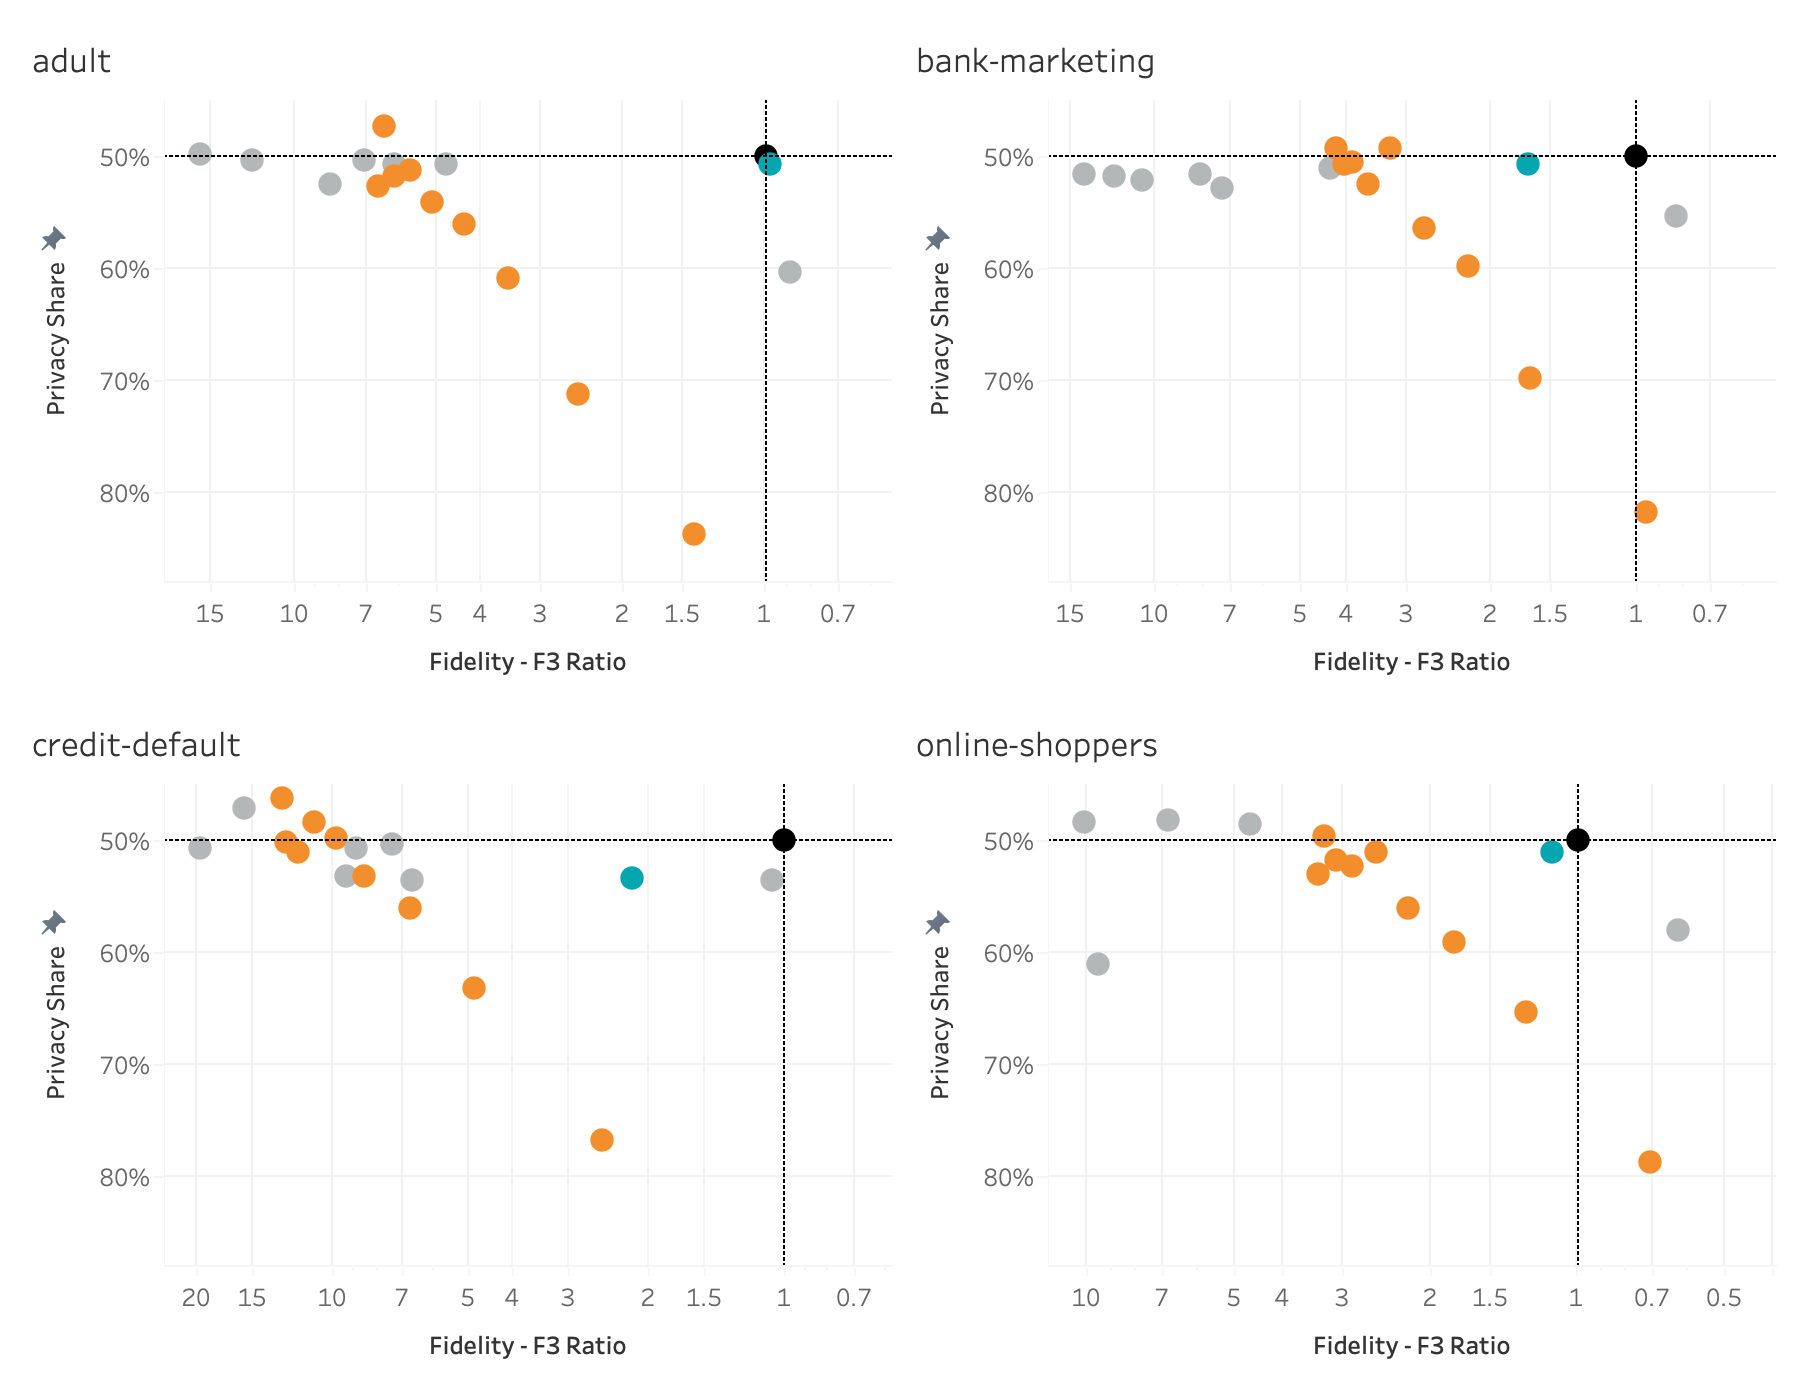

Layout of this report page (visuals, bound fields, positions):
{"tool":"tableau","page":{"name":"df_all","canvas":[1000,700],"ordinal":1},"visuals":[{"type":"worksheet","title":"df1","mark":"Automatic","rows":["priv_share"],"cols":["fid3_ratio"],"box":[8,8,412,342]},{"type":"worksheet","title":"df2","mark":"Shape","rows":["priv_share"],"cols":["fid3_ratio"],"box":[420,8,412,342]},{"type":"blank","box":[832,8,160,32]},{"type":"legend","title":"df1","param":"[federated.0exfi0i05gmj3d14msn4h1me6b6n].[none:Calculation_5919700265430339584:n","box":[832,40,160,106]},{"type":"worksheet","title":"df3","mark":"Shape","rows":["priv_share"],"cols":["fid3_ratio"],"box":[8,350,412,342]},{"type":"worksheet","title":"df4","mark":"Shape","rows":["priv_share"],"cols":["fid3_ratio"],"box":[420,350,412,342]}]}

Visuals, with their boxes on the page's 1000x700 design canvas (x1, y1, x2, y2). These are canvas units, not pixel positions in the 1800x1400 screenshot, which may show the page scaled, cropped or inside an application window:
"df1" worksheet: region(8, 8, 420, 350)
"df2" worksheet (Shape marks): region(420, 8, 832, 350)
blank: region(832, 8, 992, 40)
"df1" legend: region(832, 40, 992, 146)
"df3" worksheet (Shape marks): region(8, 350, 420, 692)
"df4" worksheet (Shape marks): region(420, 350, 832, 692)
